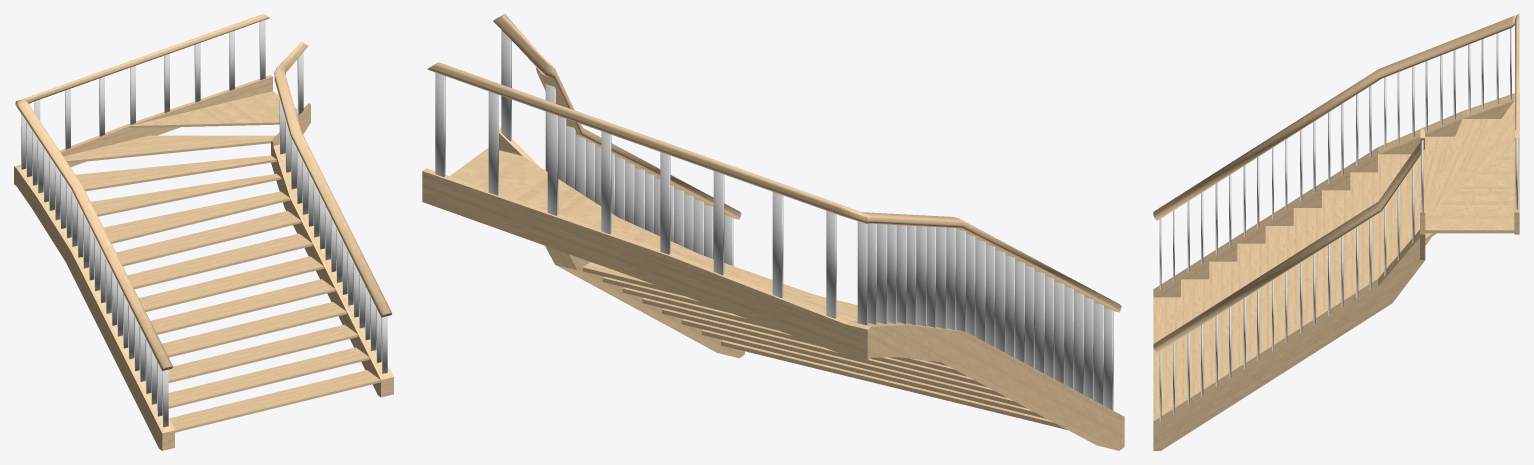
Rendered from sh-contrib-staircase-90-top.glb.
3 views of the same model, side by side, from view 1: azimuth 30°, elevation 25°; view 2: azimuth 150°, elevation 25°; view 3: azimuth 270°, elevation 25° (orthographic). The views are drawn at different scales.
Parts seen in each view (by area): view 1: 10_10, 27_27.001_27_27.004; view 2: 10_10, 27_27.001_27_27.004; view 3: 10_10, 27_27.001_27_27.004.
Boxes of the visible parts, box(x1,y1,x2,y2) form: 10_10: box(14, 14, 393, 450); 27_27.001_27_27.004: box(21, 20, 387, 427); 10_10: box(422, 14, 1124, 450); 27_27.001_27_27.004: box(435, 30, 1113, 410); 10_10: box(1153, 14, 1519, 450); 27_27.001_27_27.004: box(1159, 28, 1517, 422).
Bounding box in the file's own units: 1 × 1 × 1.
Materials: 2 (1 with a texture image).
